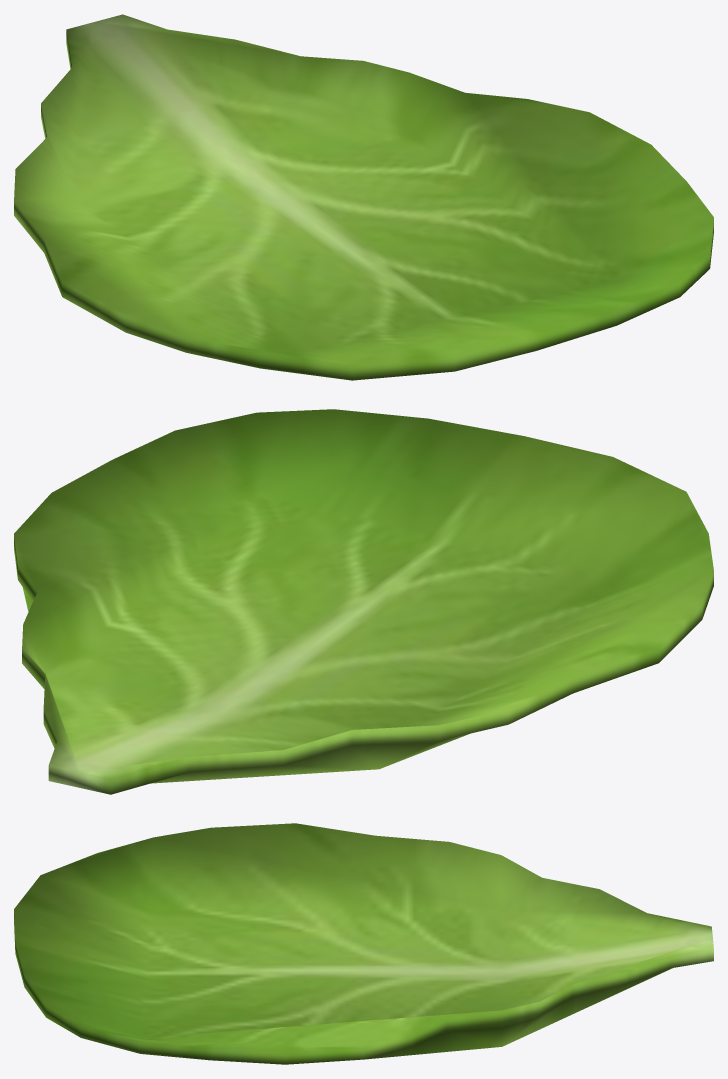
The model's file is SaladLeaf.glb.
3 renders of one model, top to bottom at view 1: azimuth 30°, elevation 25°; view 2: azimuth 150°, elevation 25°; view 3: azimuth 270°, elevation 25°, orthographic. The views are drawn at different scales.
Parts seen in each view (by area): view 1: SaladLeaf; view 2: SaladLeaf; view 3: SaladLeaf.
Part boxes in pixels (box(x1,y1,x2,y2)): SaladLeaf: box(14, 14, 713, 380); SaladLeaf: box(14, 409, 713, 794); SaladLeaf: box(14, 823, 713, 1064).
Size of the model in its own units: 0.4925 by 0.045 by 0.6349.
Materials: 1 (1 with a texture image).
